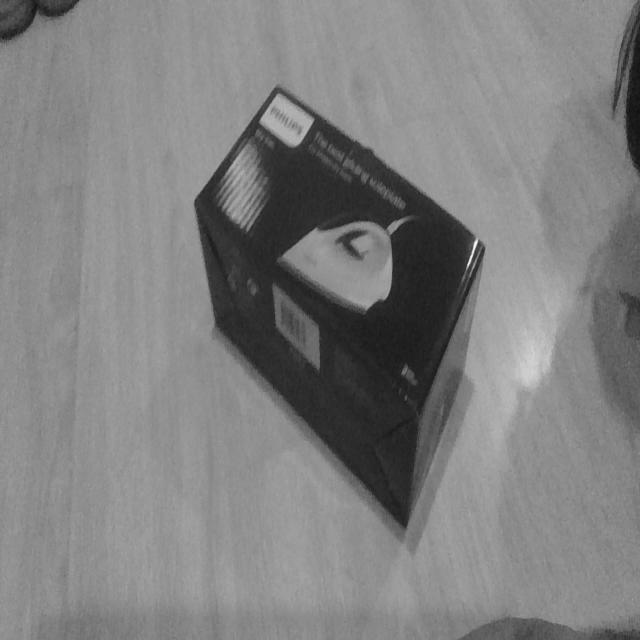IRON: (192, 82, 487, 533)
